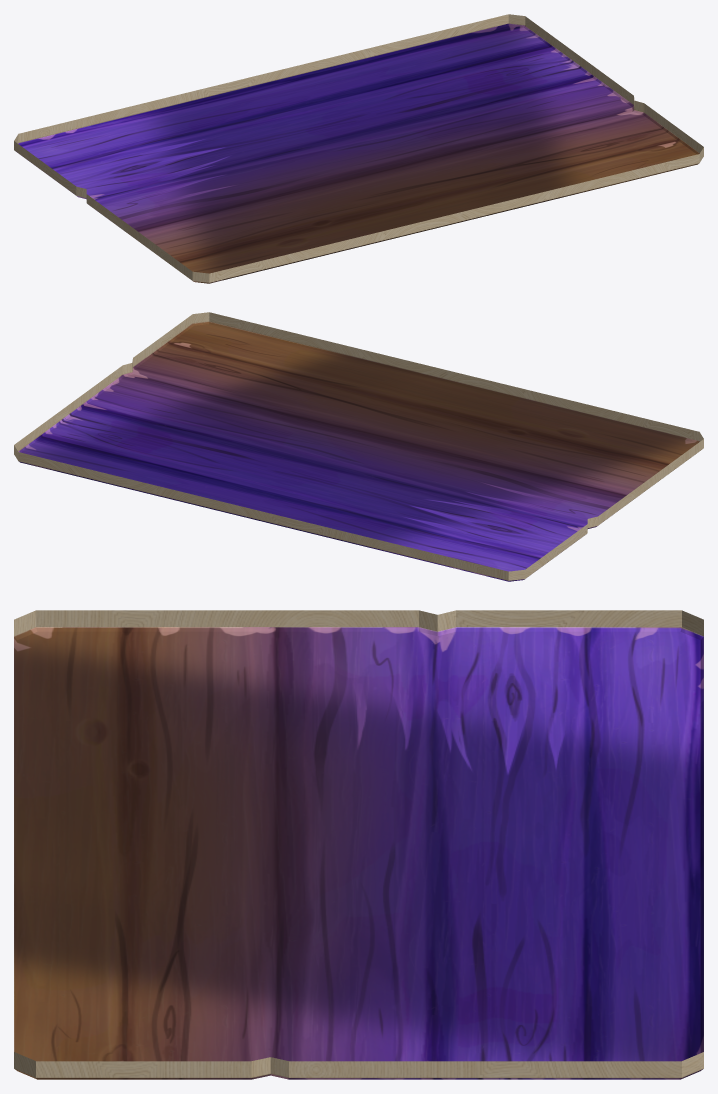
The model's file is table.glb.
3 renders of one model, top to bottom at view 1: azimuth 30°, elevation 25°; view 2: azimuth 150°, elevation 25°; view 3: azimuth 270°, elevation 25°, orthographic. The views are drawn at different scales.
Parts seen in each view (by area): view 1: Table; view 2: Table; view 3: Table.
Boxes of the visible parts, x1,y1,x2,y2 form: Table: (14, 14, 703, 283); Table: (14, 312, 703, 581); Table: (14, 610, 703, 1079).
Bounding box in the file's own units: 10.65 × 0.2196 × 6.89.
1 material, 1 textured.
